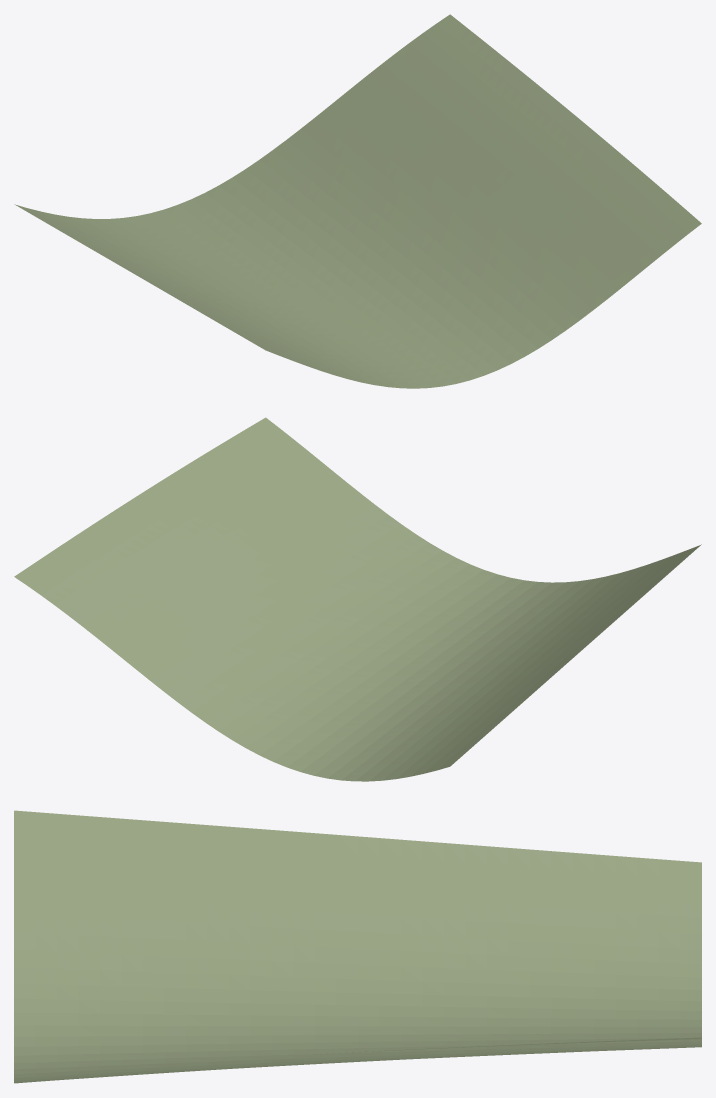
Rendered from expanse-13-26.glb.
3 views of the same model, one above another, from view 1: azimuth 30°, elevation 25°; view 2: azimuth 150°, elevation 25°; view 3: azimuth 270°, elevation 25° (orthographic). The views are drawn at different scales.
Visible parts, largest first — view 1: expanse-13-26; view 2: expanse-13-26; view 3: expanse-13-26.
Part boxes in pixels (x1=…): expanse-13-26: x1=14, y1=14, x2=701, y2=388; expanse-13-26: x1=14, y1=417, x2=701, y2=781; expanse-13-26: x1=14, y1=810, x2=701, y2=1083.
Size of the model in its own units: 256 by 70.56 by 256.
